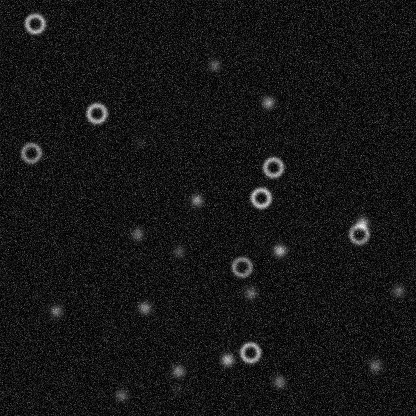Ring: (238, 340, 262, 364), (84, 101, 108, 125), (248, 185, 272, 209), (22, 11, 46, 35), (346, 222, 370, 246), (261, 155, 285, 179), (229, 254, 253, 278), (18, 140, 42, 164)
Spot: (170, 363, 186, 379), (131, 134, 147, 150), (271, 242, 287, 258), (219, 351, 235, 367), (242, 284, 258, 300), (48, 302, 64, 318), (259, 94, 275, 110), (366, 357, 382, 373), (136, 299, 152, 315), (113, 387, 129, 403), (353, 215, 369, 231), (168, 380, 184, 396), (188, 192, 204, 208), (271, 373, 287, 389), (129, 226, 145, 242), (170, 243, 186, 259), (206, 57, 222, 73), (390, 282, 406, 298)
